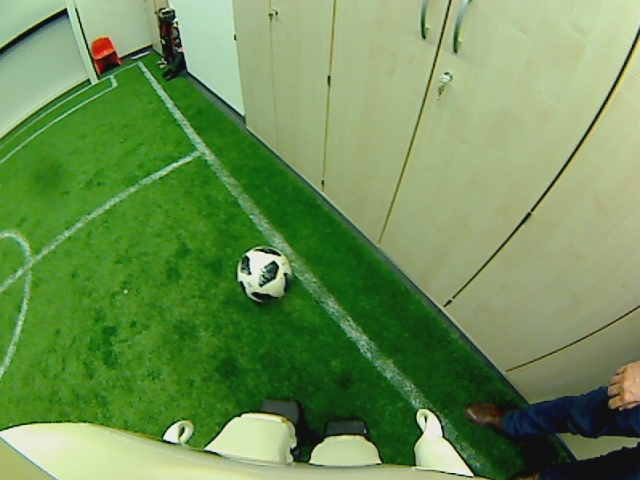ball: (237, 244, 292, 301)
